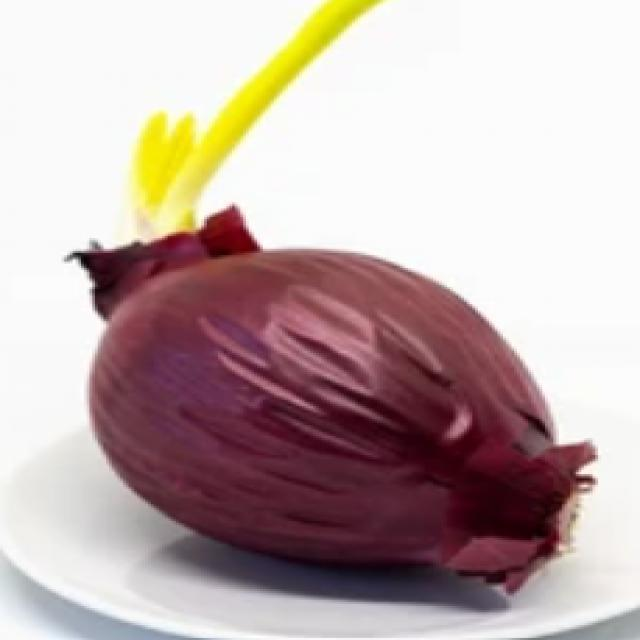sprouting: (86, 8, 230, 245)
